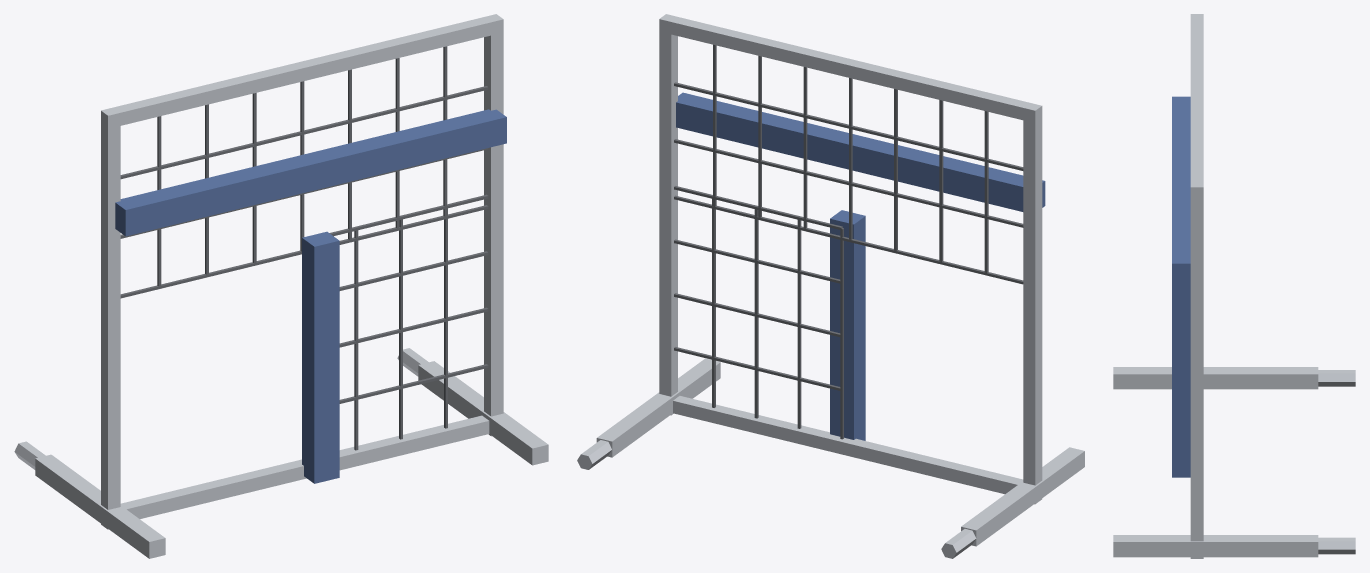
File: baseball-park-and-batting-cages-l-screen-b3102029__33761.glb
3 views of the same model, side by side, from view 1: azimuth 30°, elevation 25°; view 2: azimuth 150°, elevation 25°; view 3: azimuth 270°, elevation 25° (orthographic). The views are drawn at different scales.
Parts seen in each view (by area): view 1: l-screen; view 2: l-screen; view 3: l-screen.
Part boxes in pixels (bbox=[...]): l-screen: bbox=[14, 14, 548, 558]; l-screen: bbox=[577, 14, 1084, 558]; l-screen: bbox=[1113, 14, 1355, 558].
Size of the model in its own units: 2.22 by 2.2 by 1.3.
